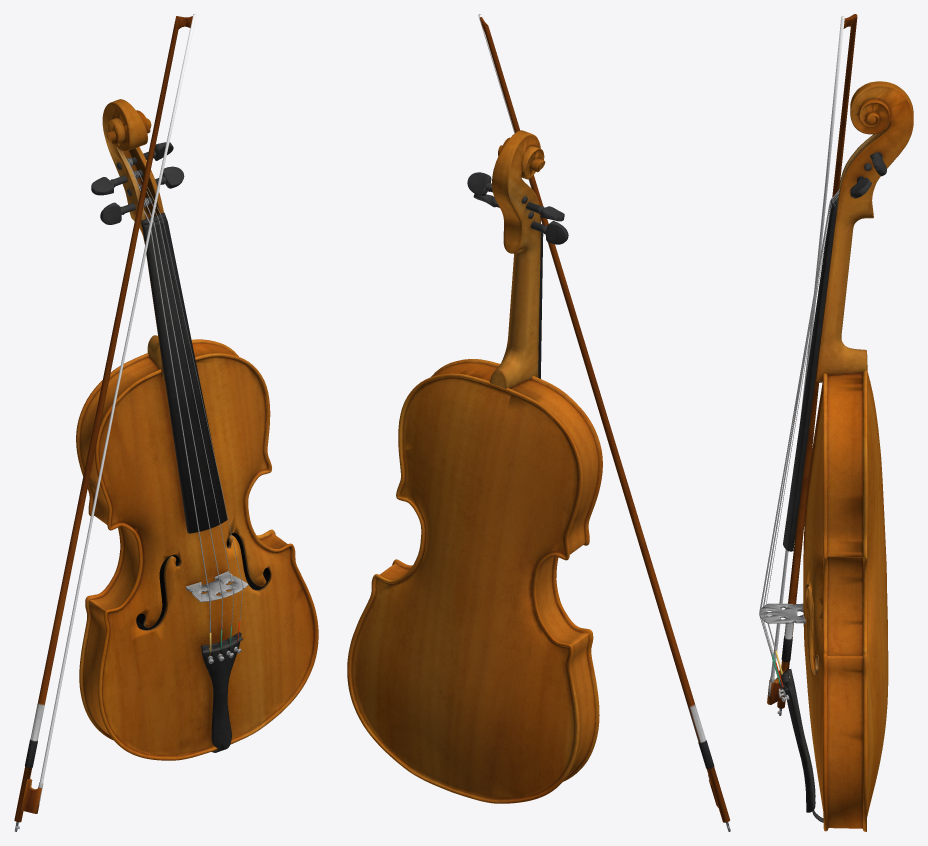
The model's file is optimized_violin.glb.
The picture shows the model from 3 angles, left to right: view 1: azimuth 30°, elevation 25°; view 2: azimuth 150°, elevation 25°; view 3: azimuth 270°, elevation 25°; orthographic projection. The views are drawn at different scales.
Visible parts, largest first — view 1: Object_6; view 2: Object_6; view 3: Object_6.
Boxes of the visible parts, <box> form: Object_6: <box>14,14,318,831</box>; Object_6: <box>347,14,730,831</box>; Object_6: <box>759,14,913,831</box>.
Bounding box in the file's own units: 19.5 × 42.89 × 7.44.
Materials: 1 (1 with a texture image).
